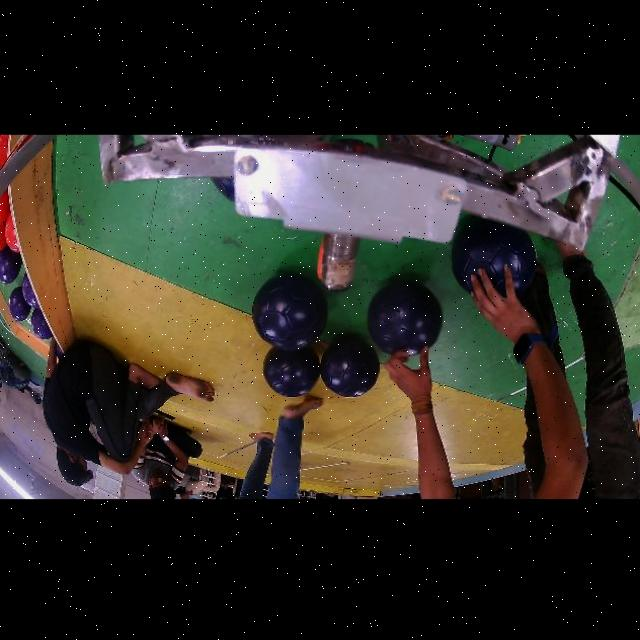B: (451, 217, 537, 297), (252, 274, 328, 350), (367, 282, 442, 356), (321, 337, 380, 398), (264, 347, 319, 397), (212, 178, 234, 202)
P: (0, 246, 22, 284), (9, 287, 31, 321), (31, 308, 52, 340), (22, 273, 39, 308)
R: (5, 213, 19, 252), (0, 189, 10, 225), (0, 135, 9, 171), (0, 223, 7, 251)
